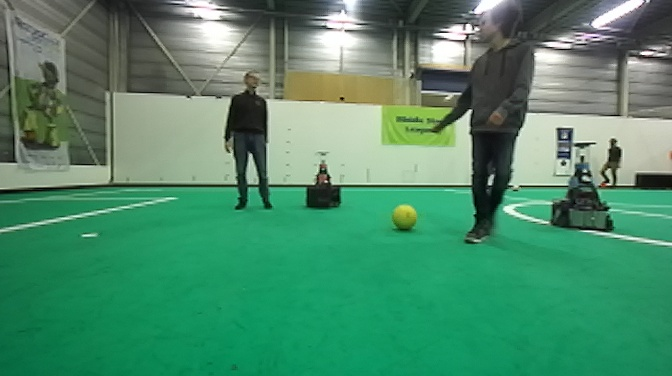ball: (392, 203, 419, 232), (510, 181, 521, 193), (599, 182, 607, 189)
human: (431, 6, 536, 246), (222, 70, 275, 212), (597, 137, 625, 190)
robot: (549, 139, 616, 235), (305, 147, 343, 211)
